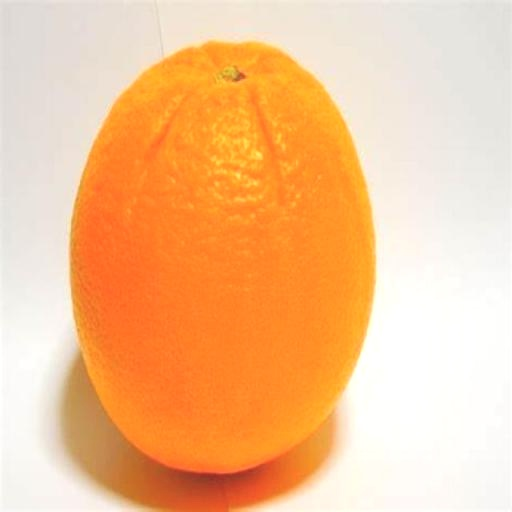fruit: (70, 43, 373, 472)
